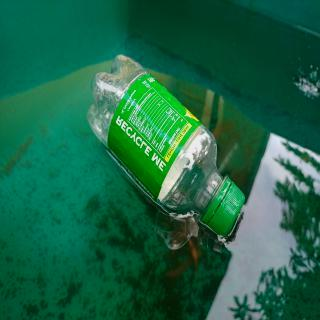bottle: (87, 52, 246, 238)
